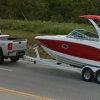Boat: (30, 20, 100, 84)
